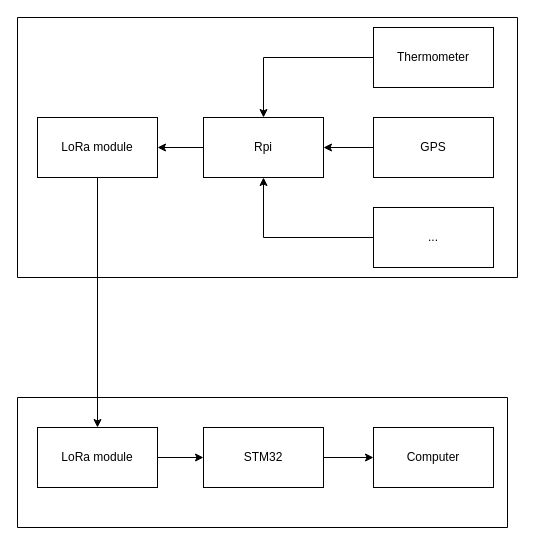
The diagram is 535 pixels wide and 545 high, and some of its shapes have lost their labels. The centre of each missing label's shape, as x and y in pixels:
"Boat" goes at (267,147).
"Ground" goes at (262,462).
